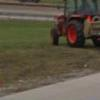Tractor: (44, 5, 100, 64)
